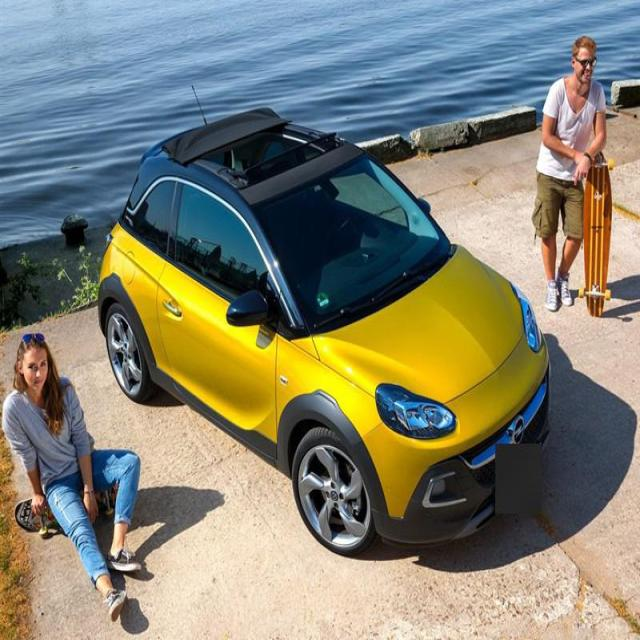front_bumper: (355, 333, 554, 545)
front_glass: (252, 151, 446, 333)
front_left_side_light: (516, 286, 544, 356)
front_right_side_door: (156, 176, 286, 467)
front_right_side_light: (374, 378, 456, 441)
front_right_side_mirror: (227, 288, 270, 334)
wheel: (295, 430, 373, 558), (106, 297, 148, 401)
